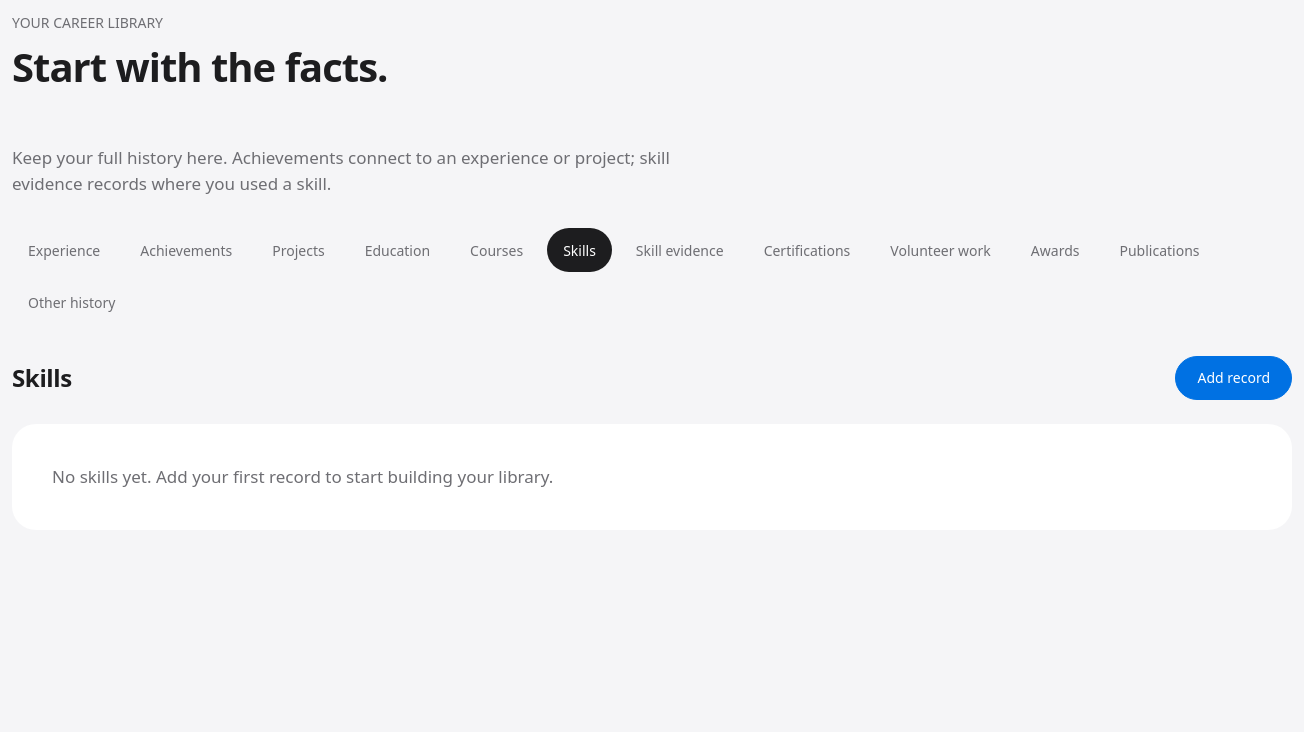
it: career library › submits a user-entered record and shows saved status
The image size is (1304, 732).
Click the button "Add record" at (1234, 378), box [1176,356,1292,400]
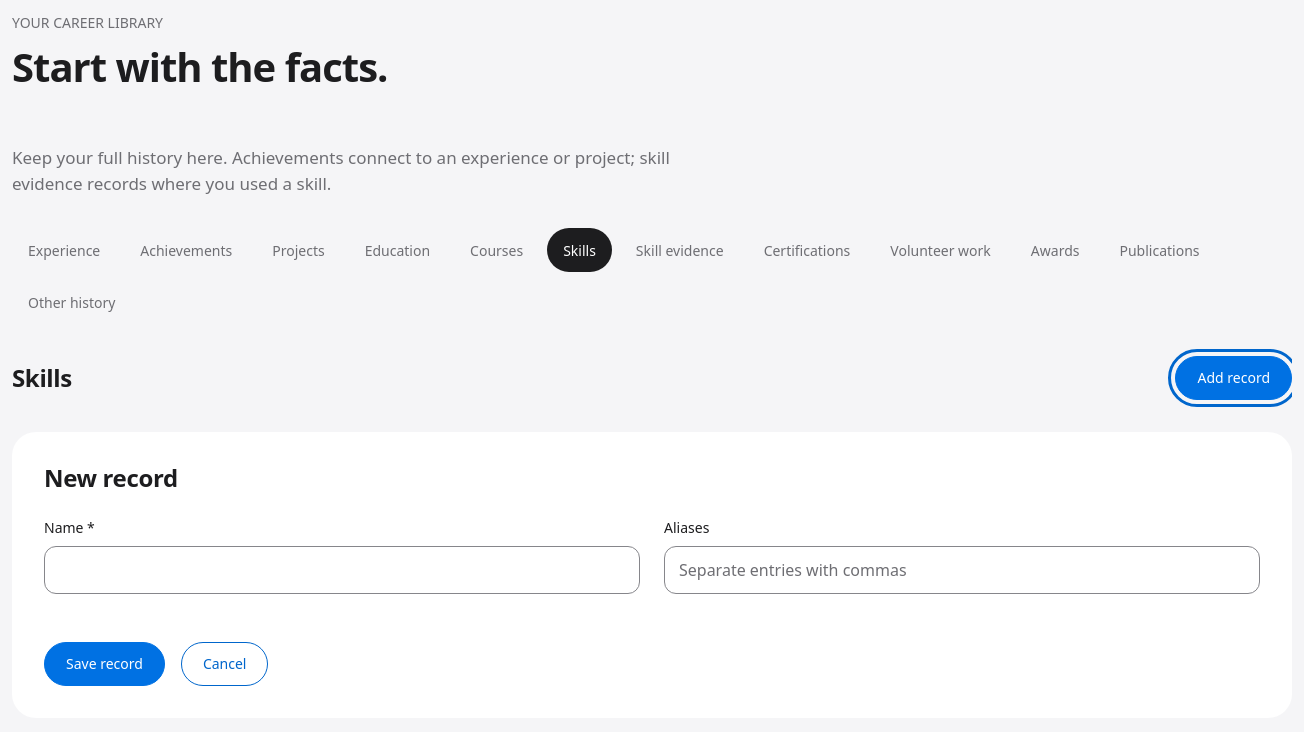
Type "Python" into the field labelled "Name *" at (342, 570), box [44,546,640,594]
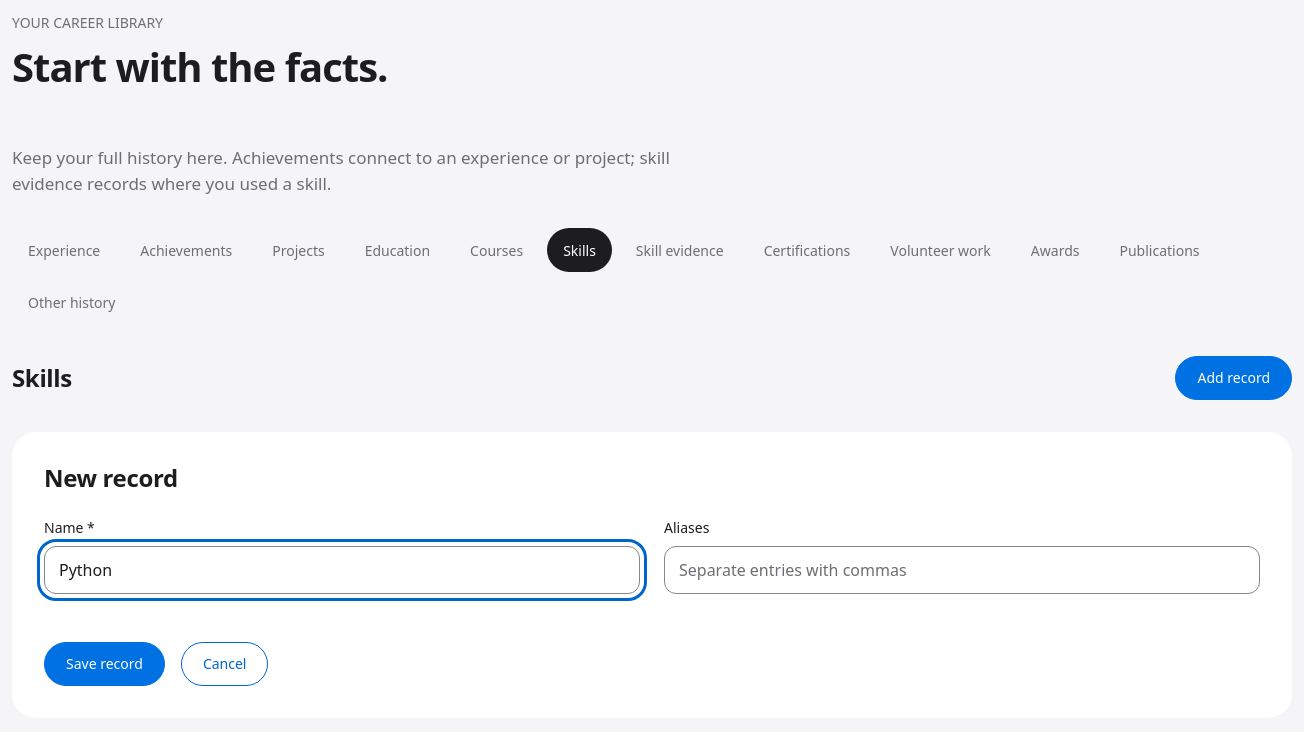
Type "Python 3" into the field labelled "Aliases" at (962, 570), box [664,546,1260,594]
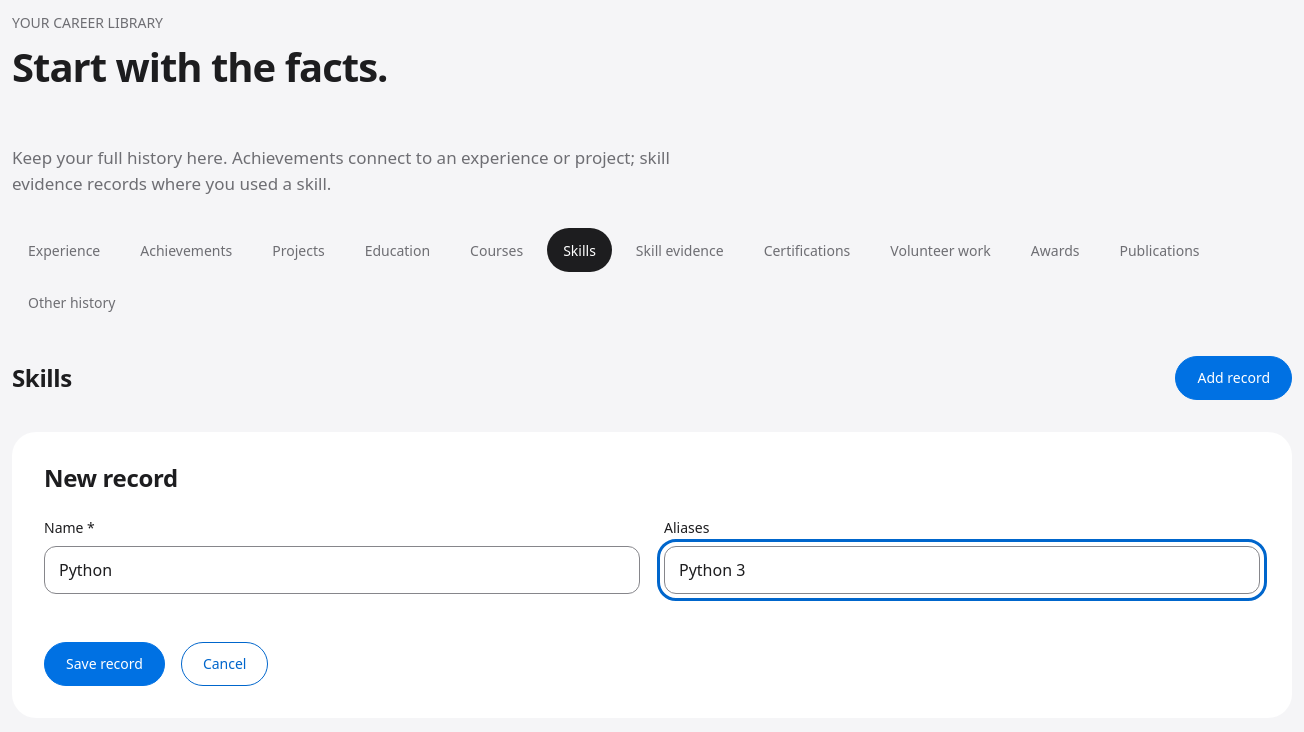
Click the button "Save record" at (104, 664), box [44,642,165,686]
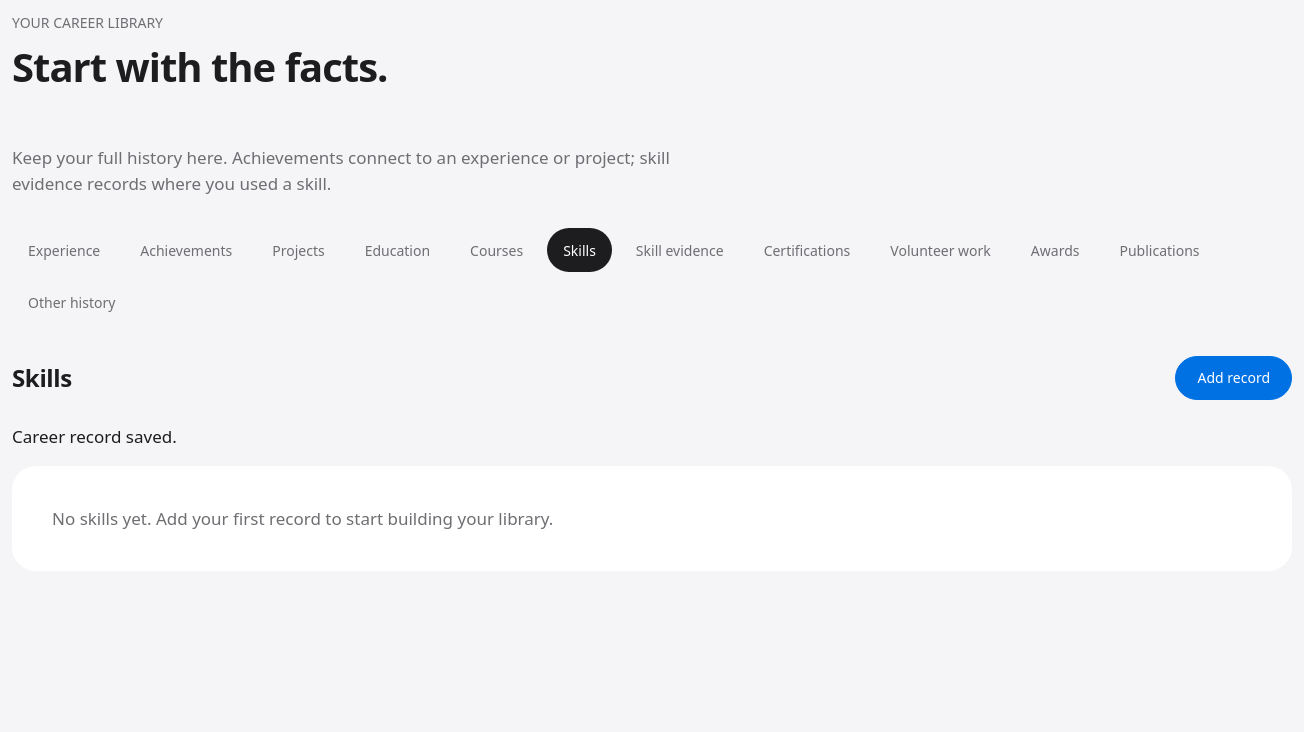
Check: the message shows "Career record saved", box [12,425,177,448]
